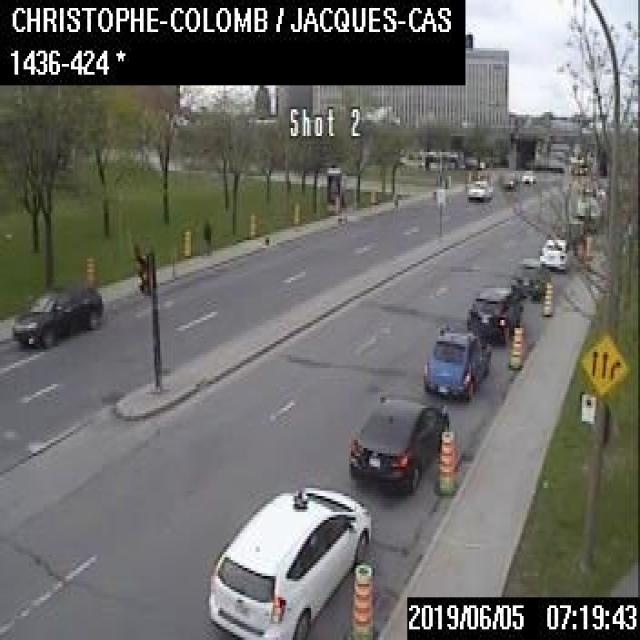bus: (404, 148, 464, 168)
construction: (342, 561, 376, 637), (432, 427, 456, 493), (506, 324, 522, 367), (540, 280, 552, 314), (84, 254, 94, 285), (182, 226, 191, 256), (248, 209, 255, 236), (292, 200, 300, 223)
pedestrian: (201, 217, 211, 253)
vehicle: (206, 483, 370, 638), (347, 395, 448, 489), (9, 277, 102, 347), (422, 323, 489, 398), (466, 284, 522, 343), (508, 255, 550, 299), (538, 236, 569, 269), (465, 177, 493, 200), (500, 170, 518, 188), (464, 154, 484, 168), (520, 168, 536, 183)
